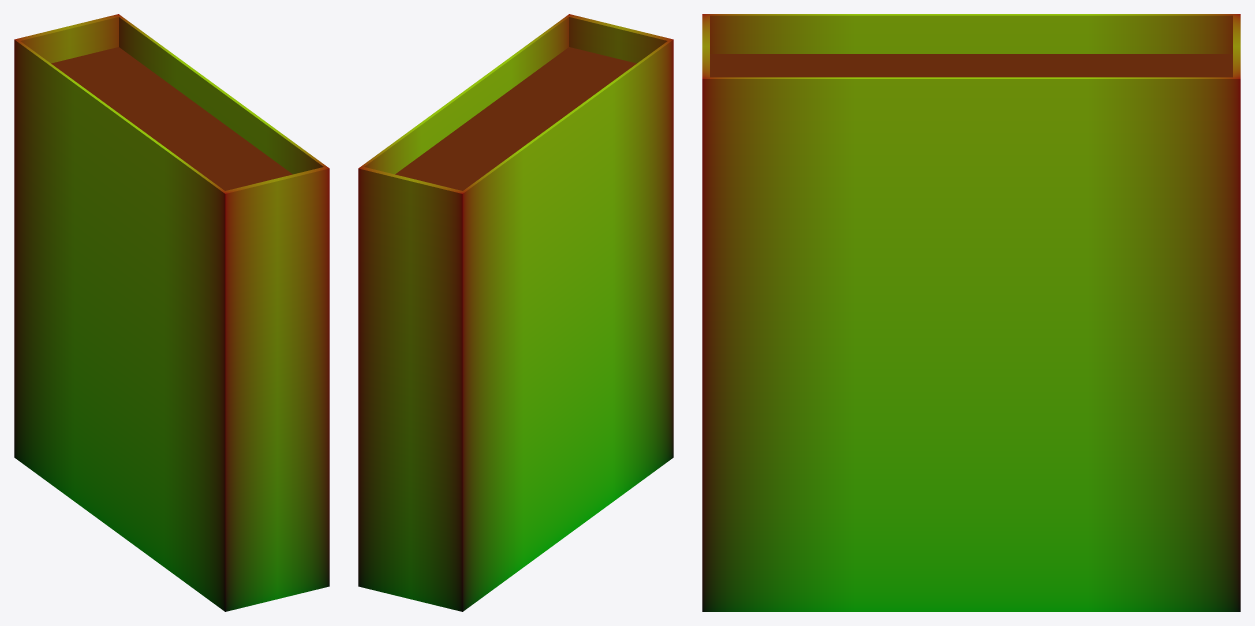
Rendered from nha_ong_homestay_4x14.far.glb.
3 renders of one model, left to right at view 1: azimuth 30°, elevation 25°; view 2: azimuth 150°, elevation 25°; view 3: azimuth 270°, elevation 25°, orthographic. The views are drawn at different scales.
Visible parts, largest first — view 1: nha_ong_homestay_4x14; view 2: nha_ong_homestay_4x14; view 3: nha_ong_homestay_4x14.
Boxes of the visible parts, <box> form: nha_ong_homestay_4x14: <box>14,14,329,611</box>; nha_ong_homestay_4x14: <box>358,14,673,611</box>; nha_ong_homestay_4x14: <box>702,14,1240,611</box>.
Size of what is drawn, in the model's own units: 4 by 15.3 by 14.
